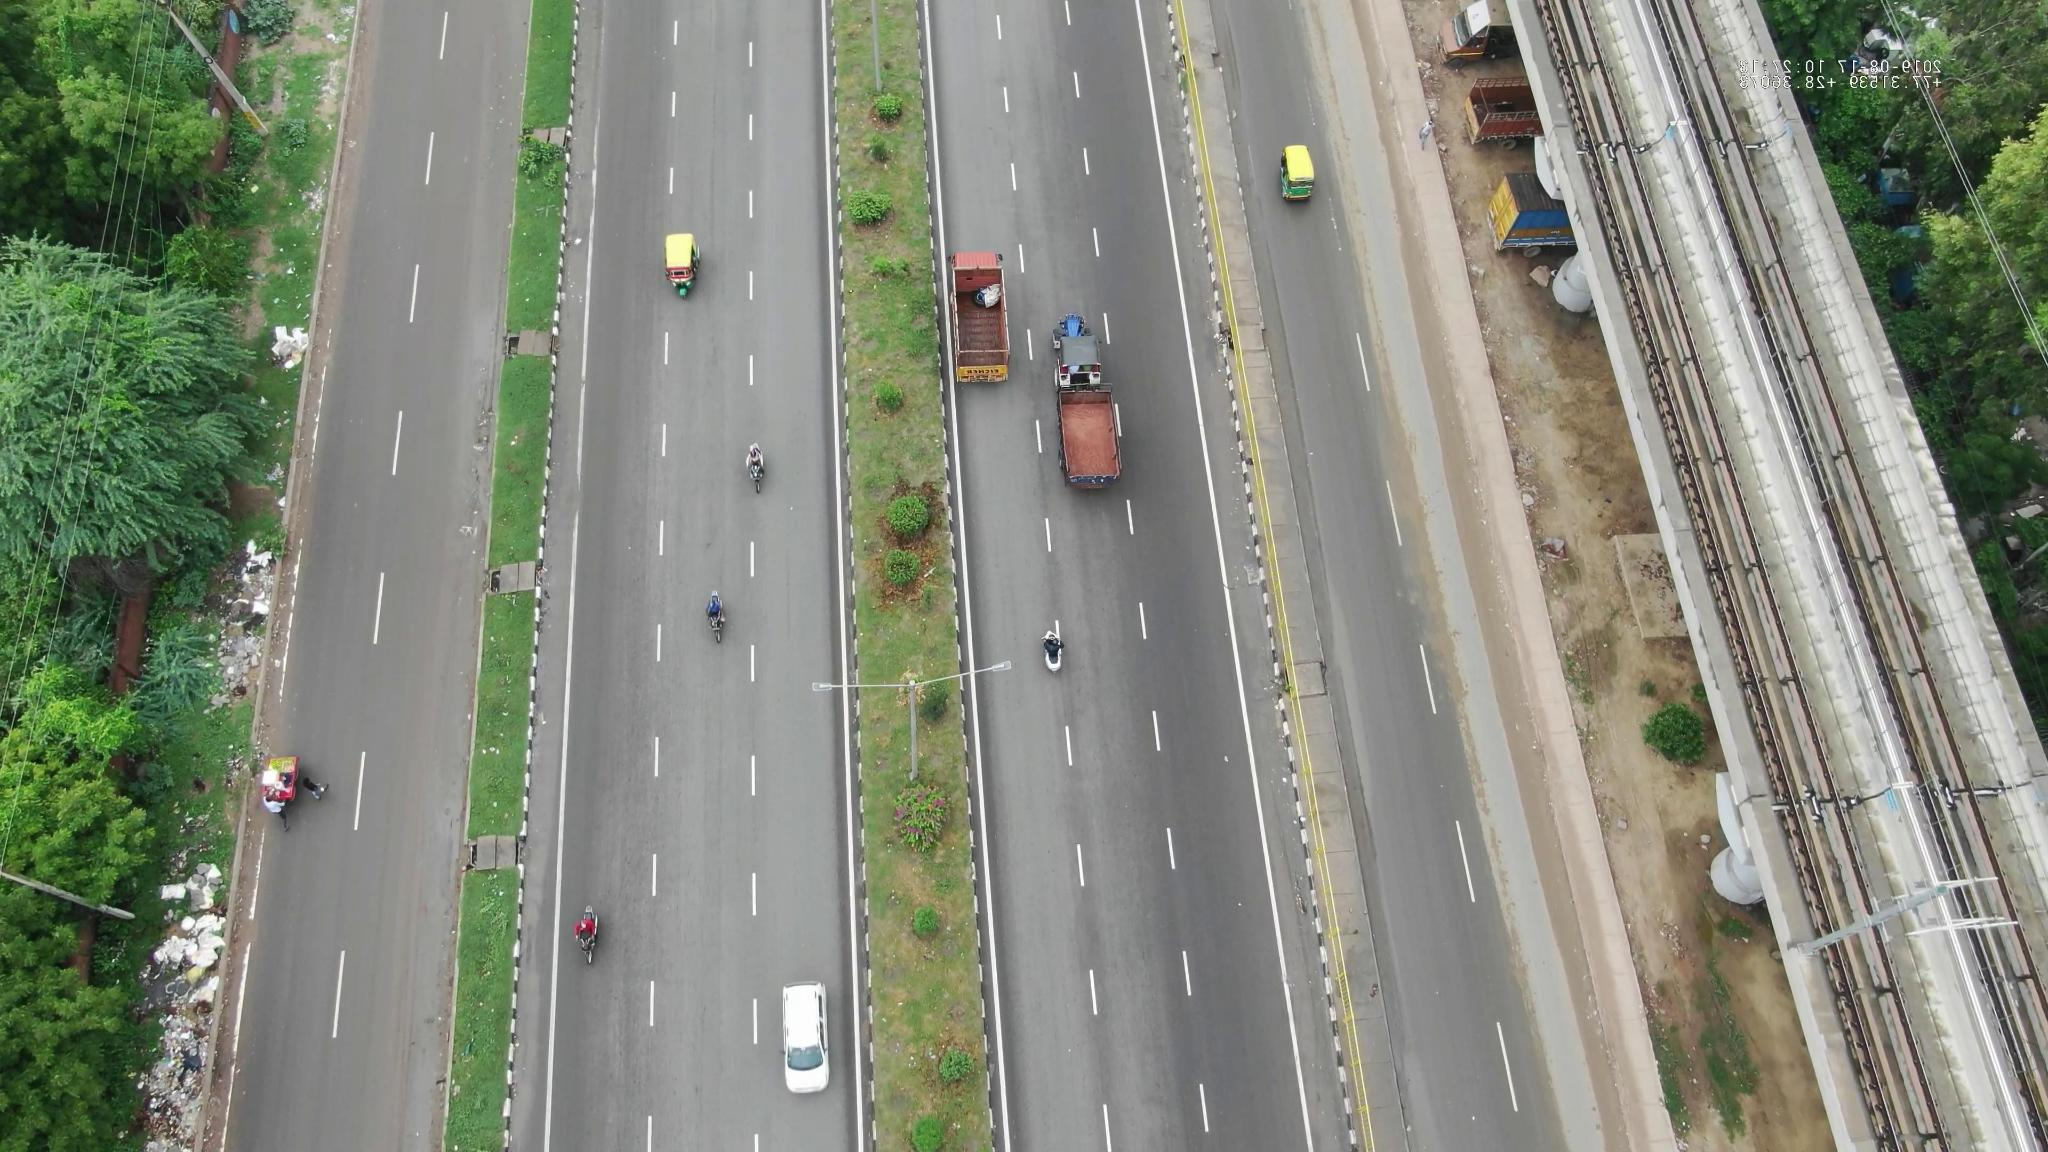Muddy_road: (1362, 369, 1468, 655)
Road_side_garbage: (132, 855, 241, 1132), (167, 516, 287, 724)
